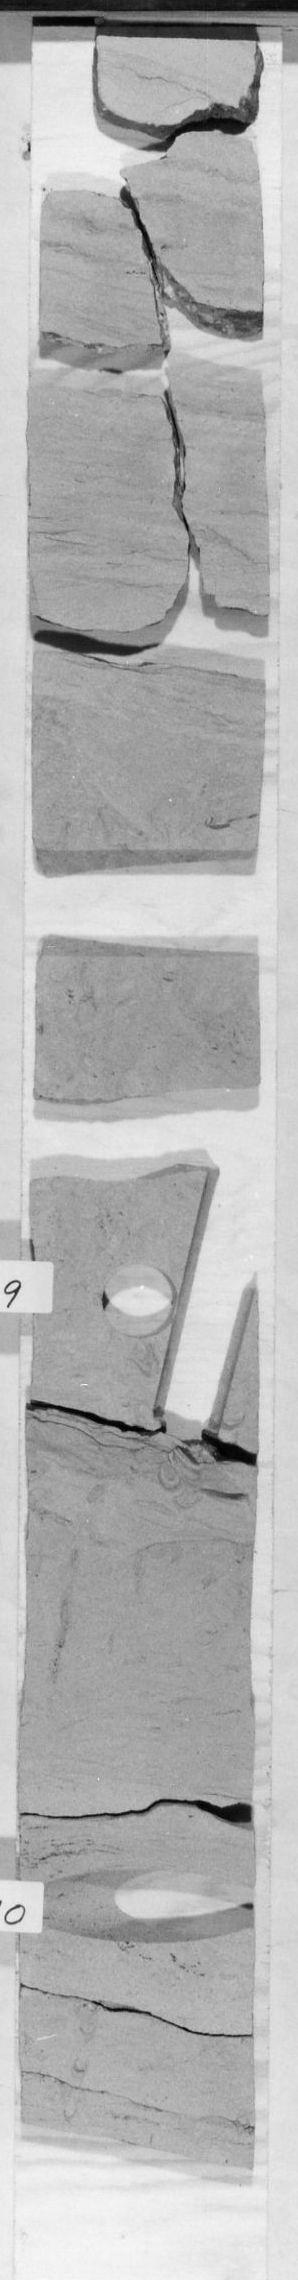hplug: (31, 1863, 251, 1953), (92, 1251, 179, 1344)
vplug: (153, 1165, 254, 1442)
